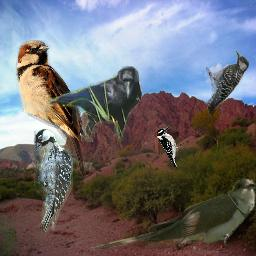Crow: (46, 66, 142, 142)
Cuckoo: (89, 177, 256, 253)
Swallow: (15, 40, 86, 177)
Woodpecker: (34, 129, 73, 233), (206, 48, 249, 118), (156, 127, 186, 168)
